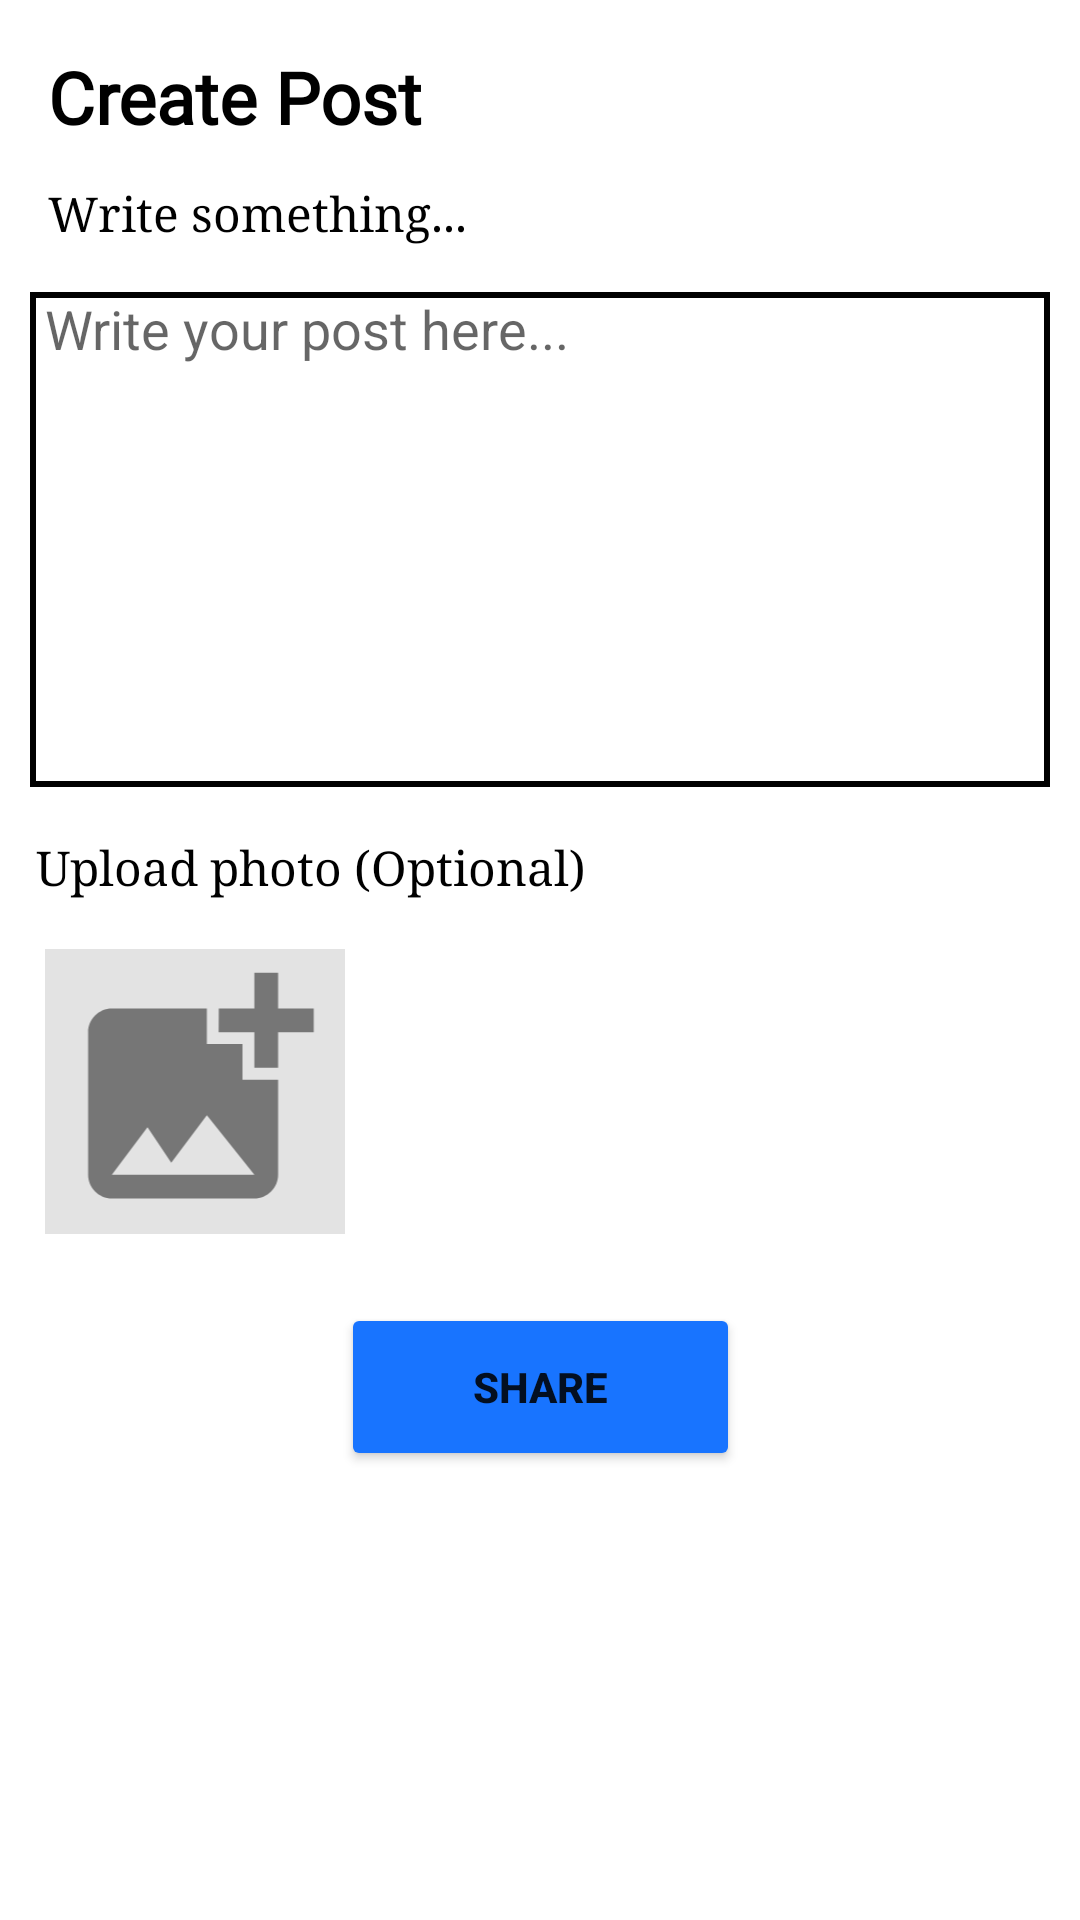

Where icons sit on this 1080x1920 app screen, as (x1, y1, x2, y2):
add photo alternate: (45, 949, 345, 1234)
